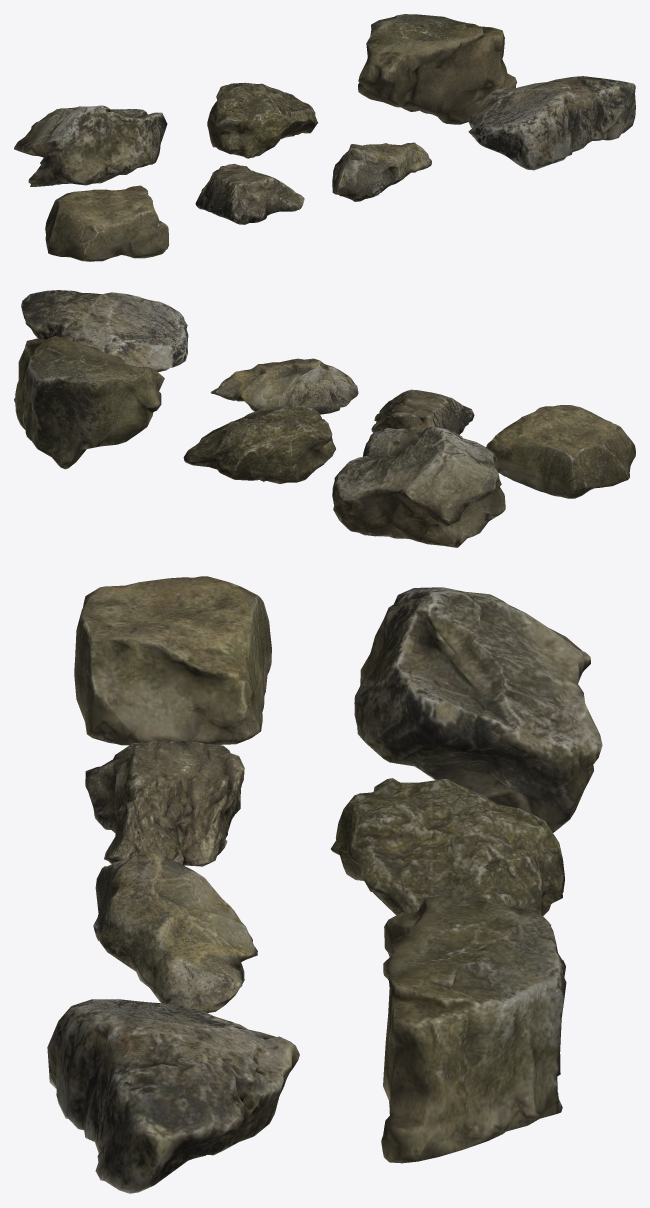
The model's file is rock_moss_set_02.glb.
3 views of the same model, one above another, from view 1: azimuth 30°, elevation 25°; view 2: azimuth 150°, elevation 25°; view 3: azimuth 270°, elevation 25° (orthographic). The views are drawn at different scales.
Parts seen in each view (by area): view 1: rock_moss_set_02_rock13, rock_moss_set_02_rock10, rock_moss_set_02_rock11, rock_moss_set_02_rock07, rock_moss_set_02_rock12, rock_moss_set_02_rock08, rock_moss_set_02_rock09; view 2: rock_moss_set_02_rock11, rock_moss_set_02_rock13, rock_moss_set_02_rock07, rock_moss_set_02_rock10, rock_moss_set_02_rock12, rock_moss_set_02_rock09, rock_moss_set_02_rock08; view 3: rock_moss_set_02_rock13, rock_moss_set_02_rock11, rock_moss_set_02_rock10, rock_moss_set_02_rock07, rock_moss_set_02_rock12, rock_moss_set_02_rock09, rock_moss_set_02_rock08.
Part boxes in pixels (box(x1,y1,x2,y2)): rock_moss_set_02_rock13: box(358, 14, 516, 124); rock_moss_set_02_rock10: box(468, 76, 635, 170); rock_moss_set_02_rock11: box(14, 105, 167, 186); rock_moss_set_02_rock07: box(45, 185, 169, 261); rock_moss_set_02_rock12: box(207, 82, 317, 158); rock_moss_set_02_rock08: box(195, 163, 304, 224); rock_moss_set_02_rock09: box(332, 142, 431, 201); rock_moss_set_02_rock11: box(332, 426, 505, 547); rock_moss_set_02_rock13: box(14, 336, 164, 469); rock_moss_set_02_rock07: box(486, 405, 635, 498); rock_moss_set_02_rock10: box(21, 290, 188, 372); rock_moss_set_02_rock12: box(183, 405, 335, 483); rock_moss_set_02_rock09: box(210, 358, 358, 414); rock_moss_set_02_rock08: box(371, 389, 474, 434); rock_moss_set_02_rock13: box(381, 894, 566, 1163); rock_moss_set_02_rock11: box(354, 587, 602, 832); rock_moss_set_02_rock10: box(47, 999, 299, 1193); rock_moss_set_02_rock07: box(74, 576, 271, 745); rock_moss_set_02_rock12: box(331, 778, 564, 925); rock_moss_set_02_rock09: box(93, 850, 257, 1012); rock_moss_set_02_rock08: box(85, 740, 244, 866).
Bounding box in the file's own units: 8.28 × 1.37 × 3.41.
1 material, 1 textured.
